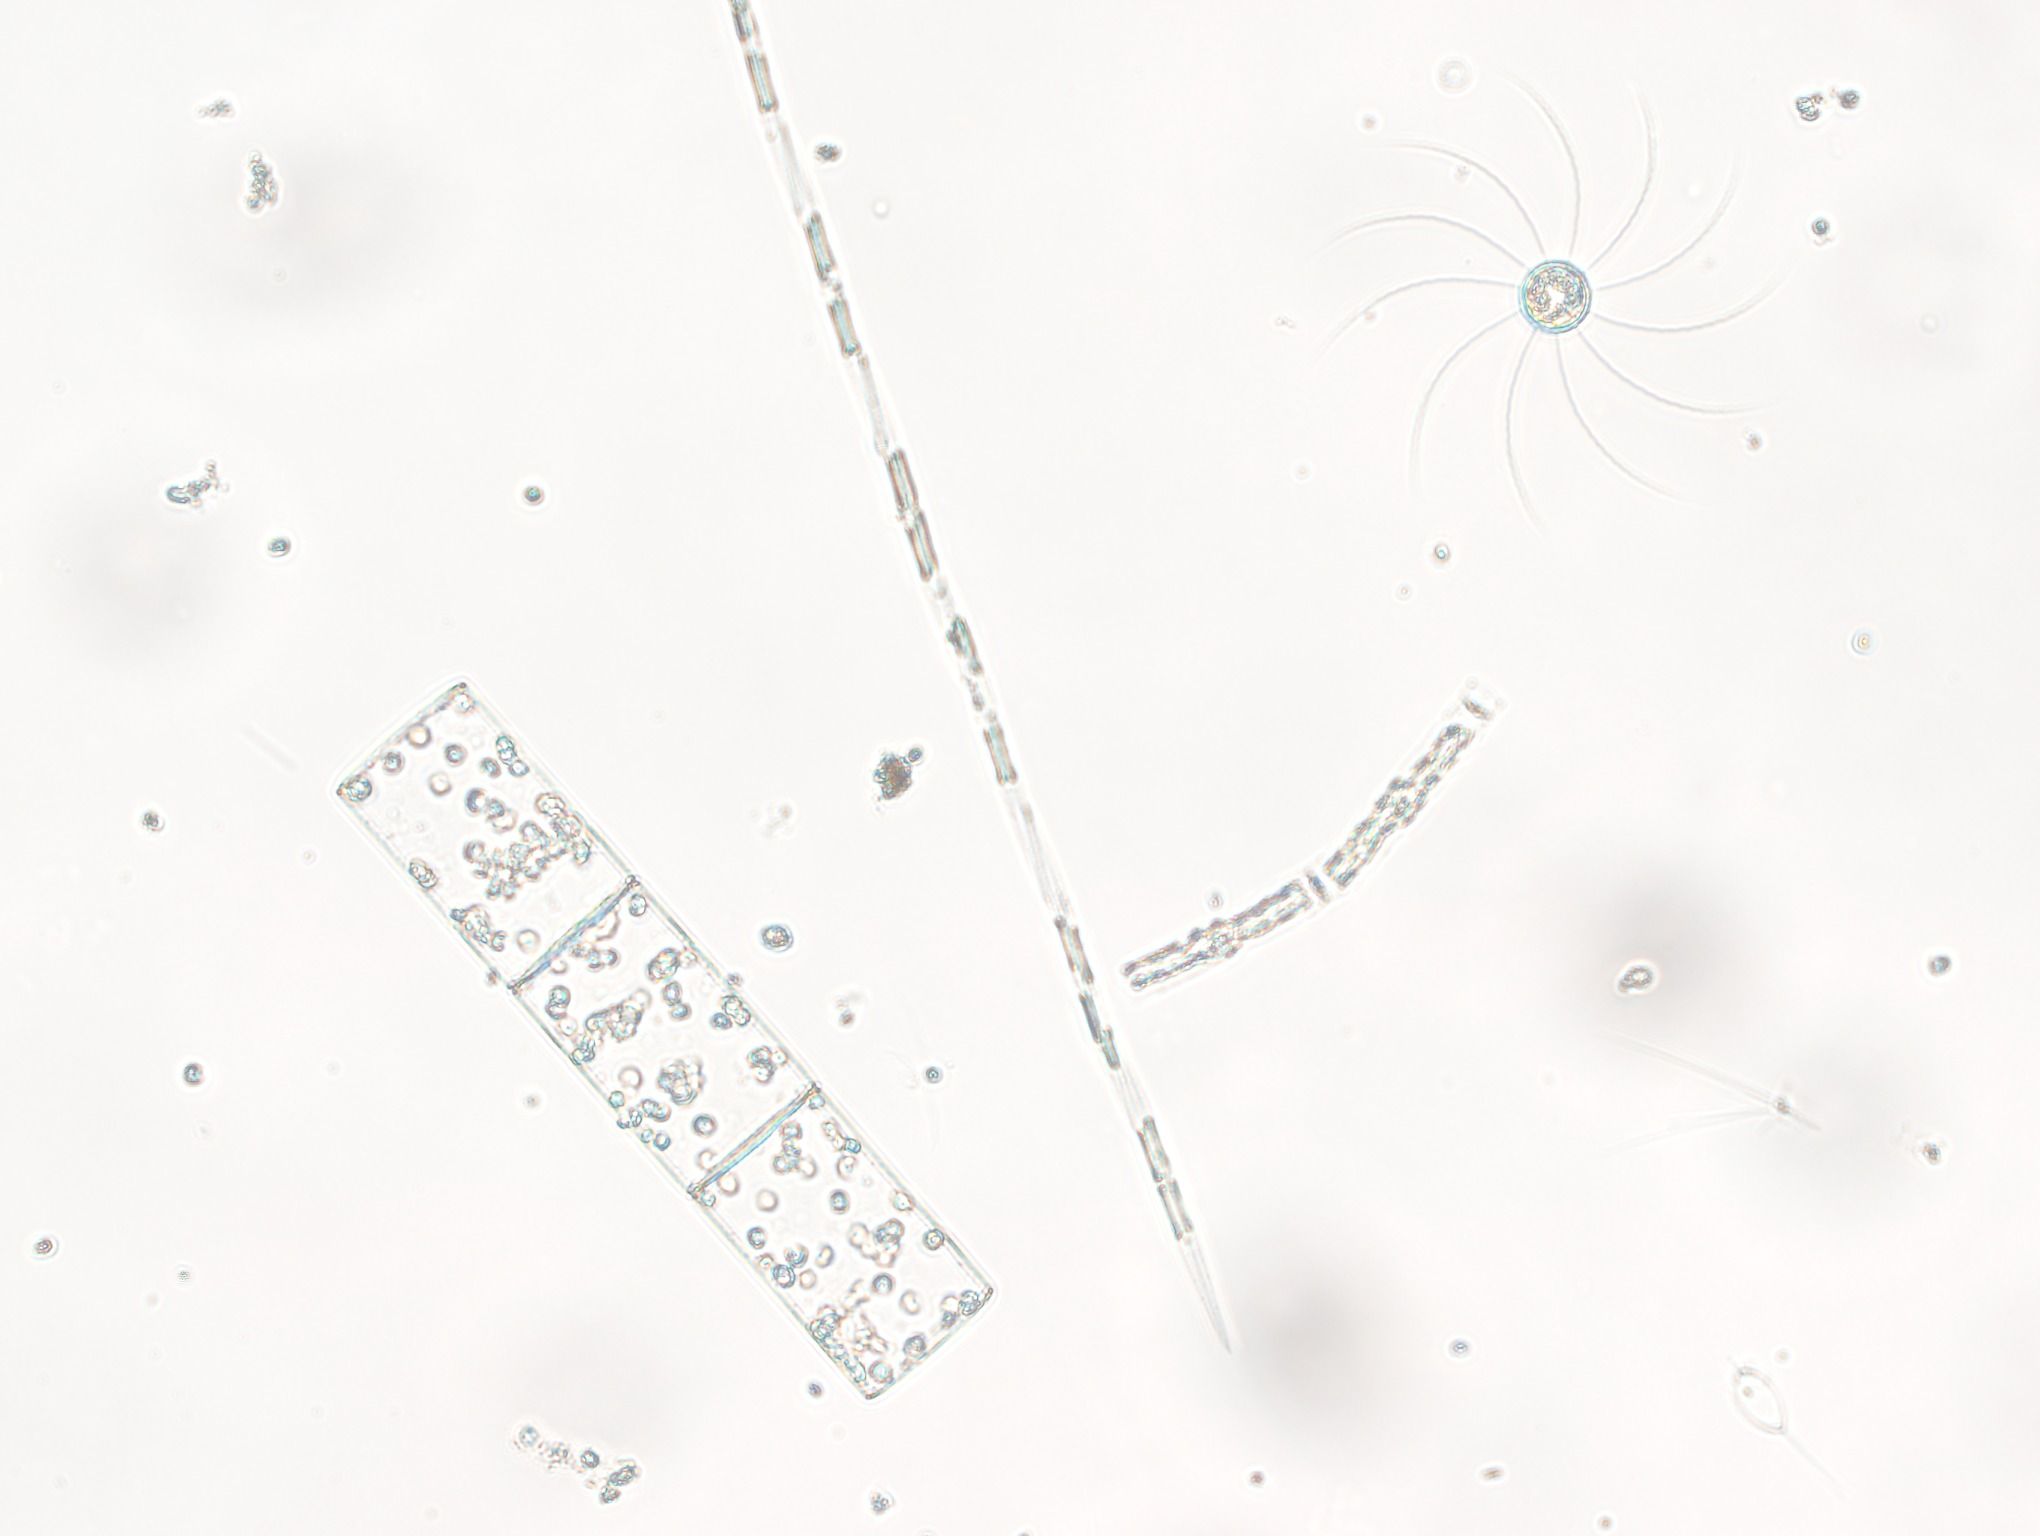bacteriastrum: (1300, 69, 1834, 532)
guinardia flaccida: (313, 676, 1005, 1428)
